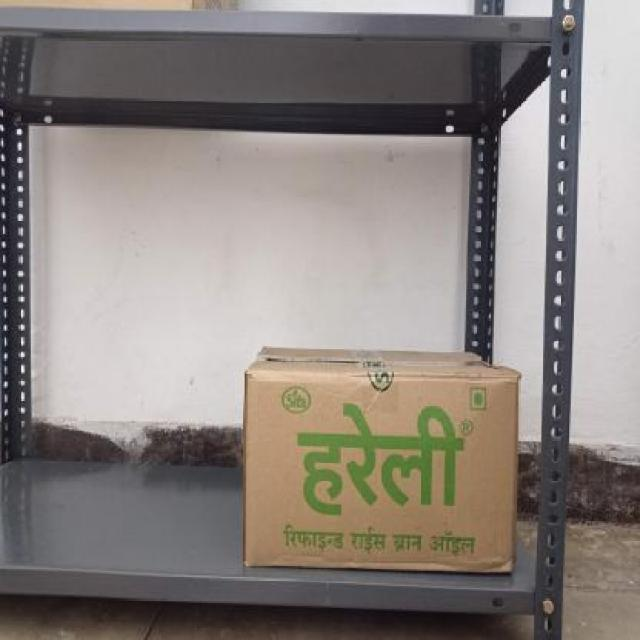box: (245, 368, 518, 577)
